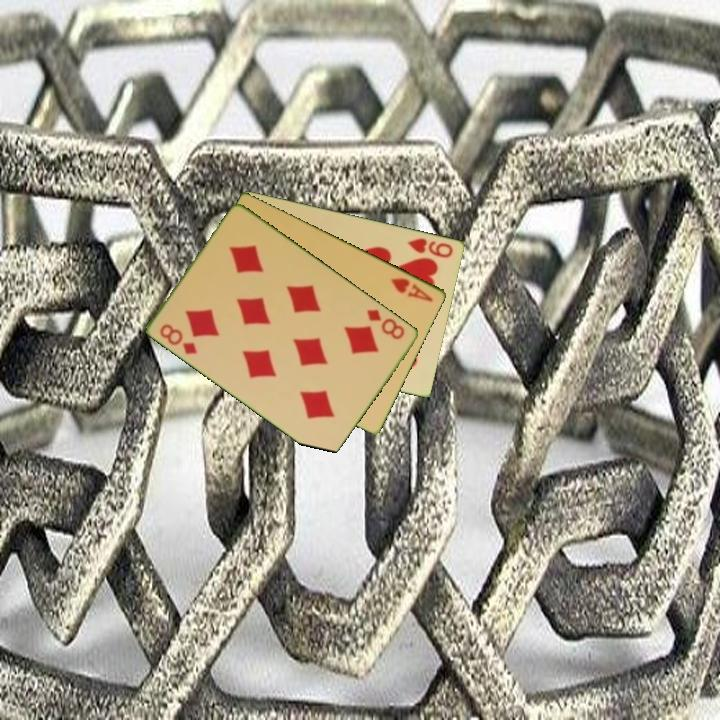8d: (363, 305, 408, 343), (156, 320, 200, 357)
9h: (405, 234, 456, 260)
Ah: (387, 274, 436, 305)
